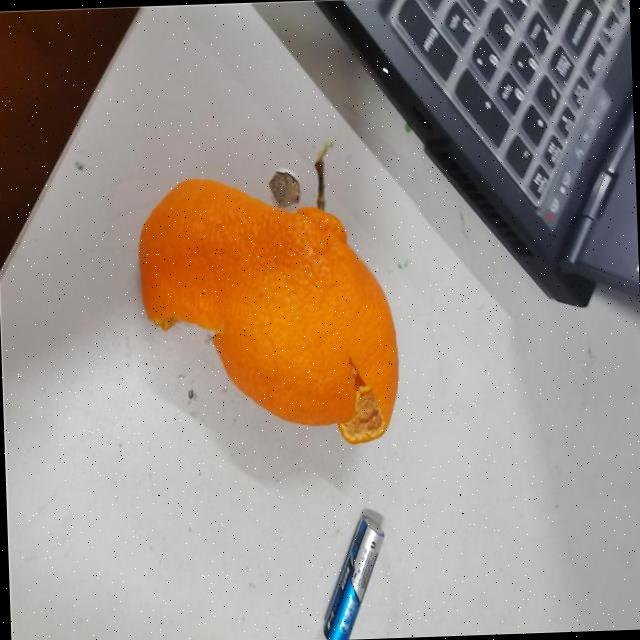orange-peel: (133, 166, 402, 452)
